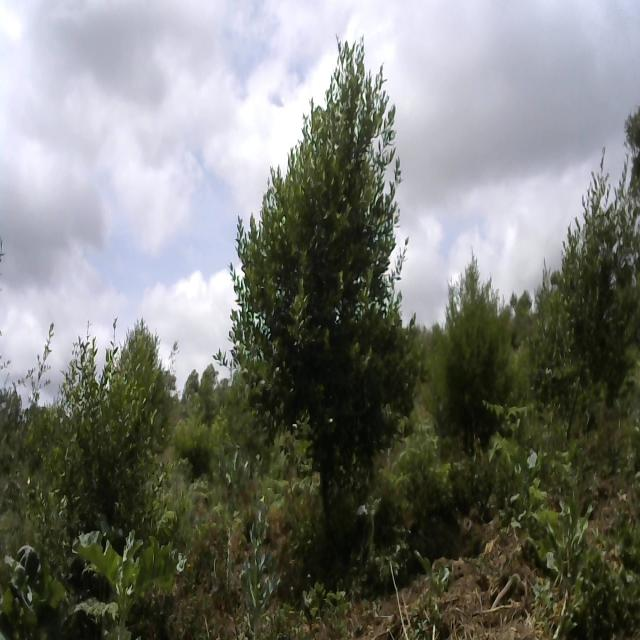Juniperus procesera: (434, 260, 511, 437)
Olea europea -africana-: (226, 22, 424, 516), (44, 322, 158, 560), (550, 151, 640, 411)
